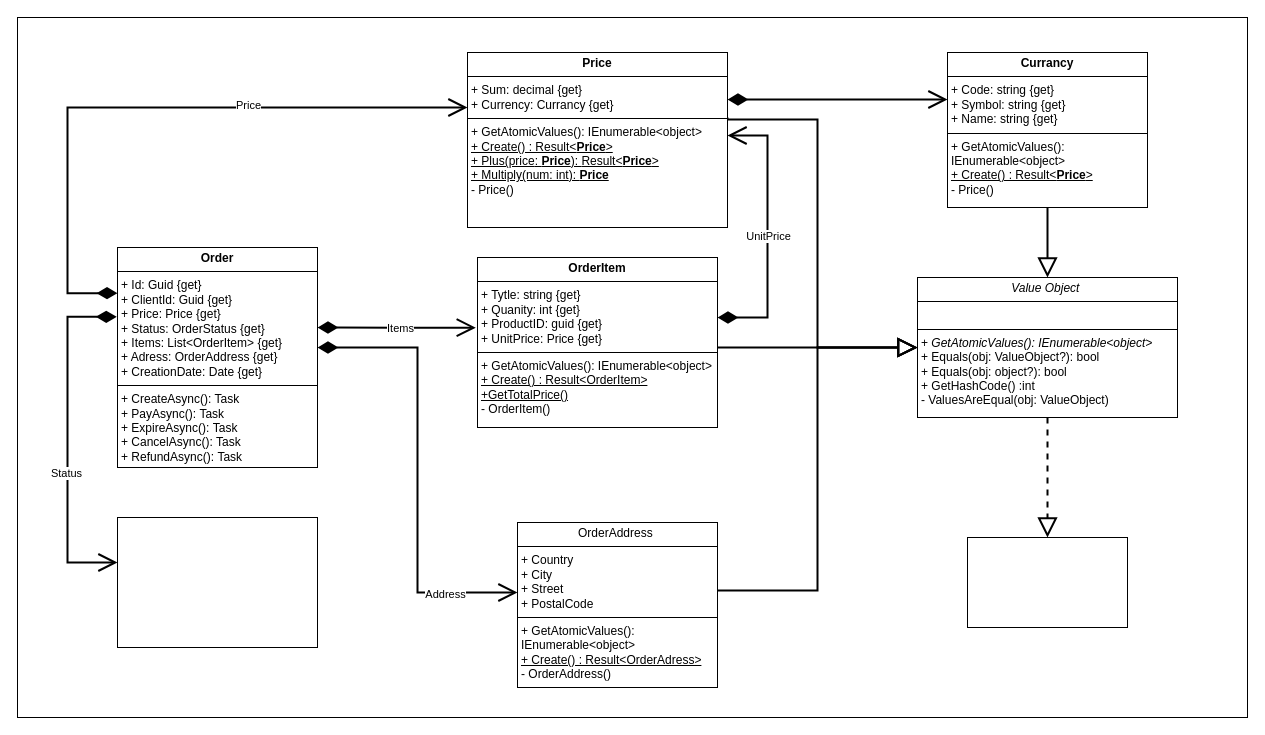
Some shapes in this 1265 by 735 pixel diagram are drawn without their labels. The box of each missing label's shape, as (x1, y1, x2, y2) in pixels:
<<enum>> OrderStatus PendingPayment Paid Canceled Expired Refunded: (116, 516, 318, 648)
IEquatable< Value Object >: (966, 536, 1128, 628)
